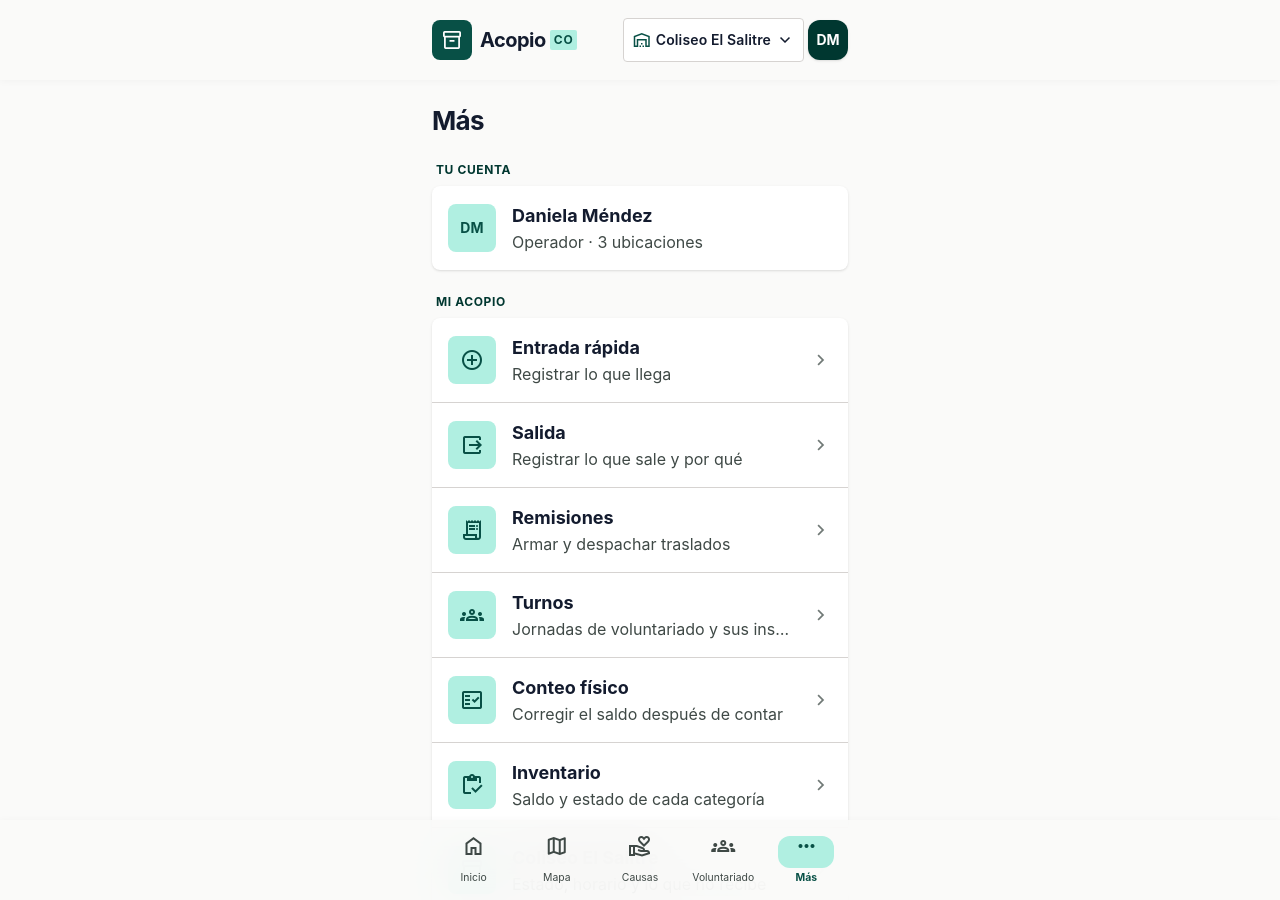
Test: la hoja agrupa acopios y zonas, y elegir cambia la ubicación activa
Click the button with aria-label "Ubicación activa".
click(713, 40)  # box [623,18,804,62]
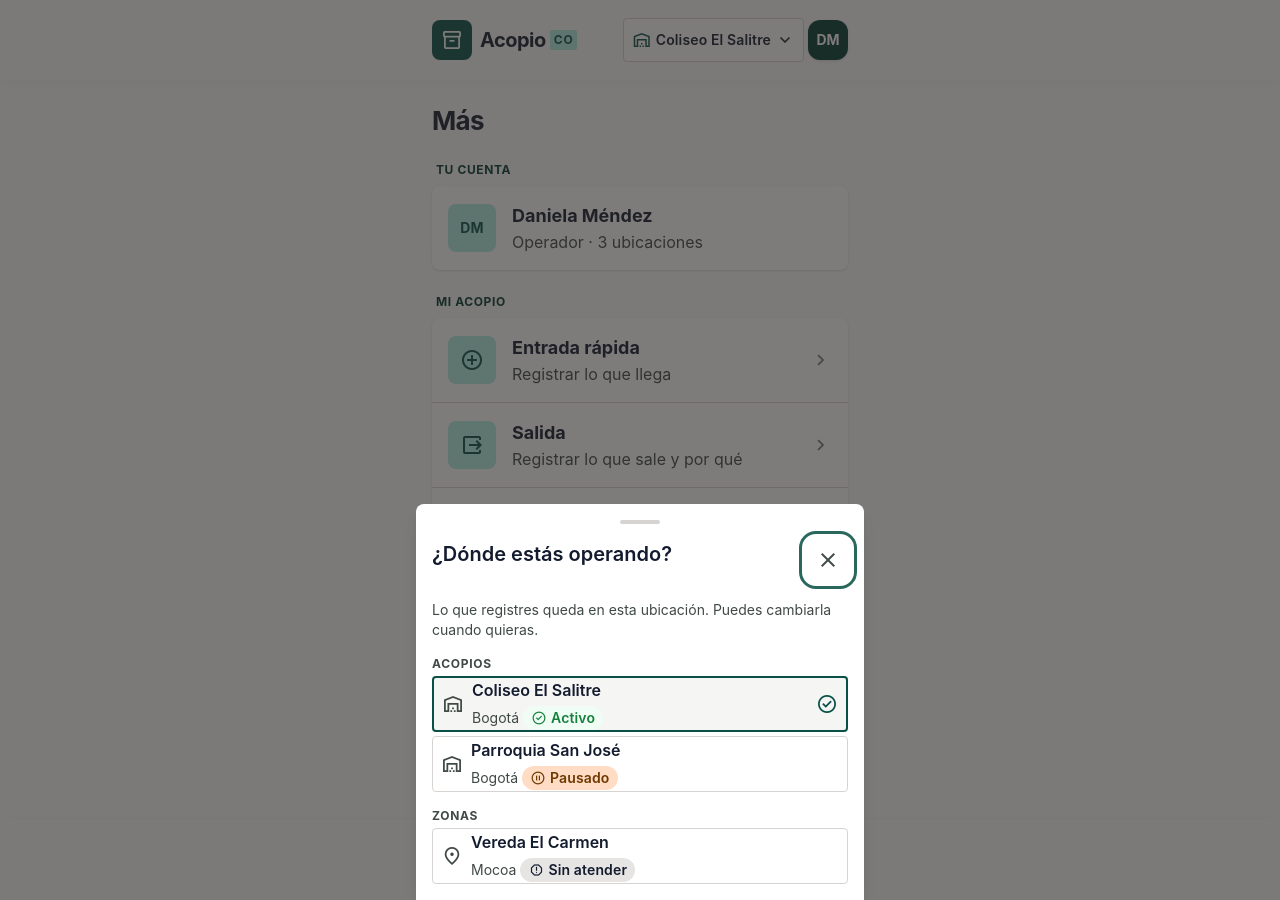
Now the element "Acopios" shows "Parroquia San José"
Now the element "Zonas" shows "Vereda El Carmen", box [432,828,848,884]
Click the button "Parroquia San José Bogotá Pausado".
click(546, 750)  # box [432,736,848,792]
(page scrolled)
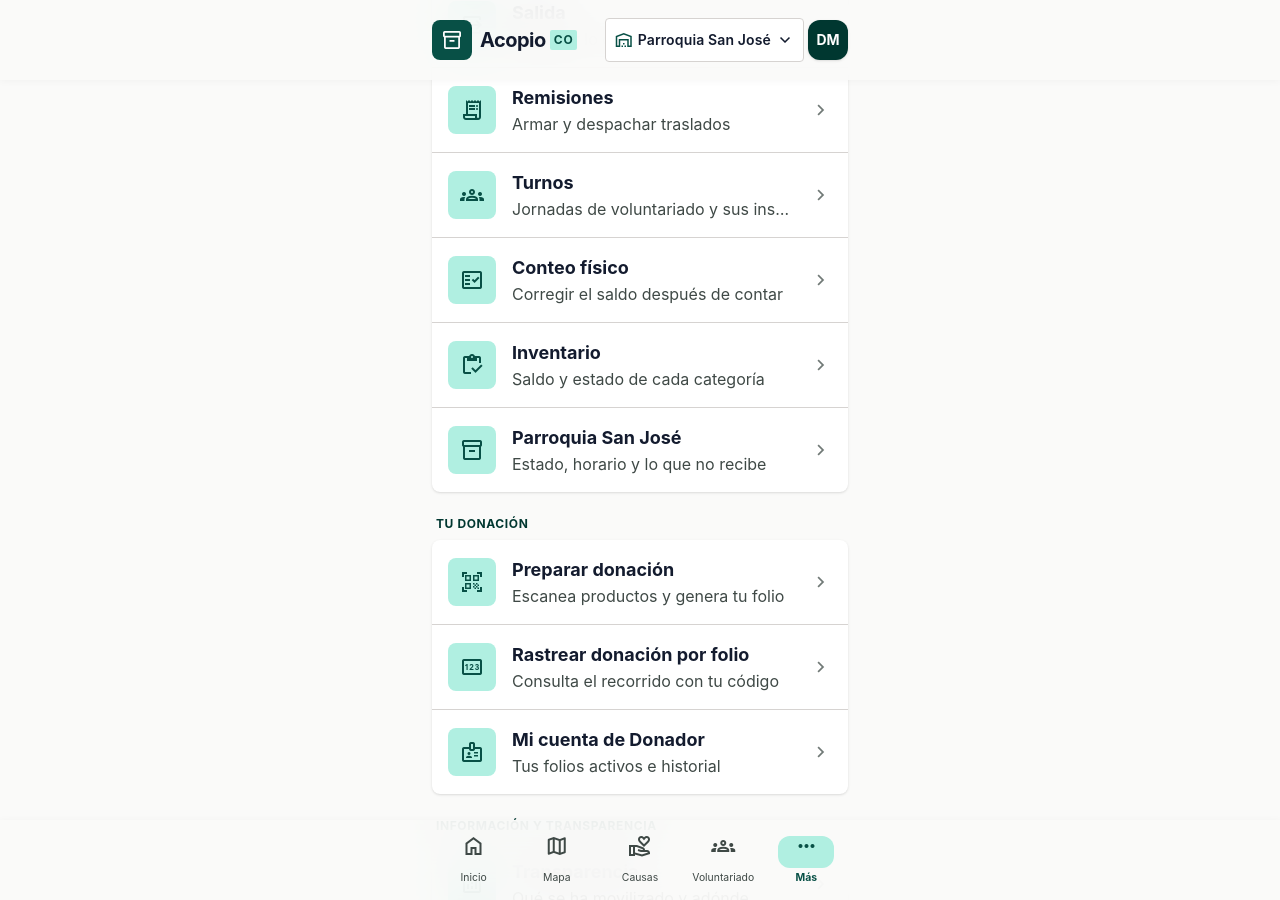
Now the dialog is gone
Now the button with aria-label "Ubicación activa" reads "Parroquia San José", box [605,18,804,62]
